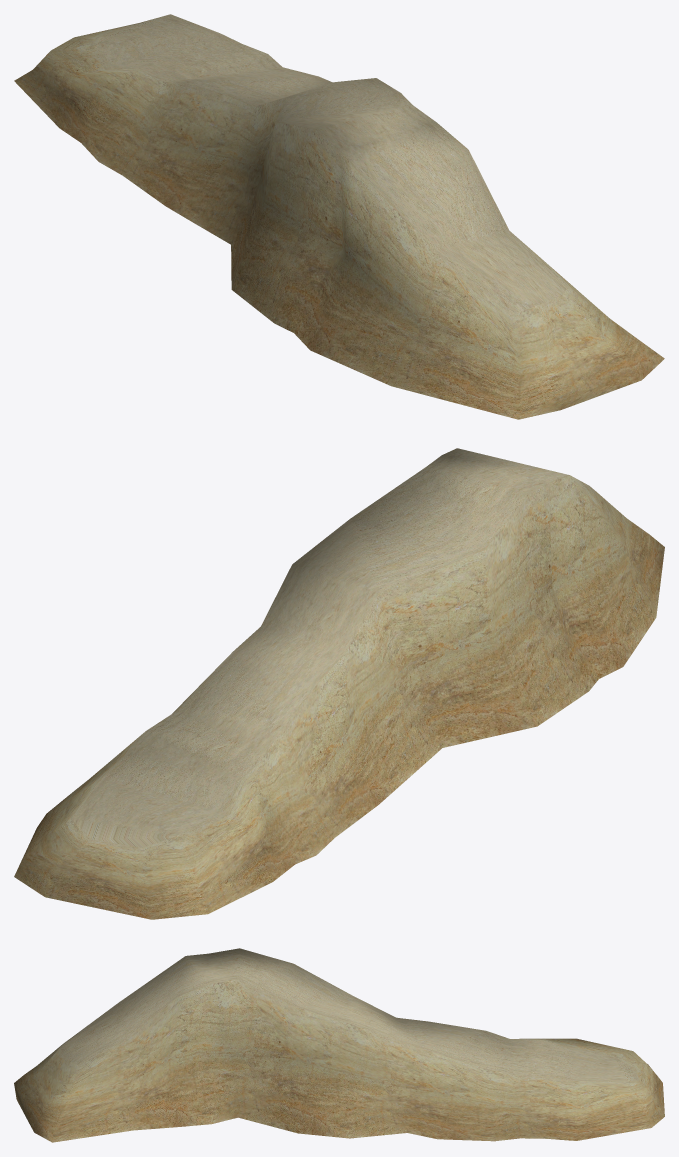
The model's file is rock_beach_spine_a4_l2.fbx.
3 views of the same model, one above another, from view 1: azimuth 30°, elevation 25°; view 2: azimuth 150°, elevation 25°; view 3: azimuth 270°, elevation 25° (orthographic). The views are drawn at different scales.
Parts seen in each view (by area): view 1: mesh_node; view 2: mesh_node; view 3: mesh_node.
Boxes of the visible parts, x1,y1,x2,y2 form: mesh_node: (14, 14, 664, 419); mesh_node: (14, 448, 664, 919); mesh_node: (14, 948, 664, 1142).
Size of the model in its own units: 5.29 by 3.59 by 16.75.
